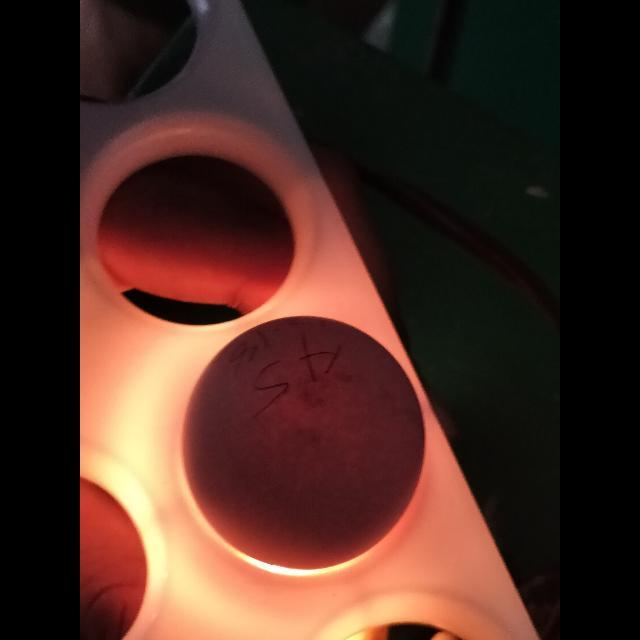Fertile: (190, 318, 416, 566)
